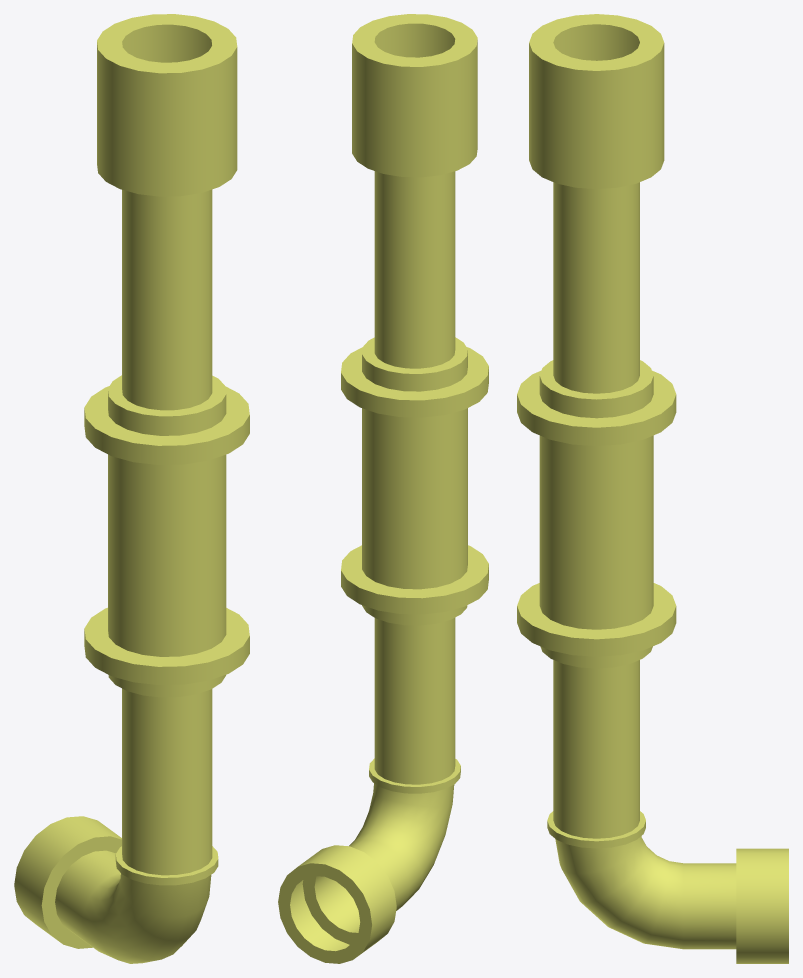
File: Generator_Pipe_Vertical_Big_1.fbx
3 views of the same model, side by side, from view 1: azimuth 30°, elevation 25°; view 2: azimuth 150°, elevation 25°; view 3: azimuth 270°, elevation 25° (orthographic). The views are drawn at different scales.
Parts seen in each view (by area): view 1: Pipe_Vertical_Big_1; view 2: Pipe_Vertical_Big_1; view 3: Pipe_Vertical_Big_1.
Boxes of the visible parts, x1=… form: Pipe_Vertical_Big_1: x1=14, y1=14, x2=249, y2=963; Pipe_Vertical_Big_1: x1=278, y1=14, x2=488, y2=963; Pipe_Vertical_Big_1: x1=517, y1=14, x2=788, y2=963.
Size of the model in its own units: 65.14 by 414 by 111.
